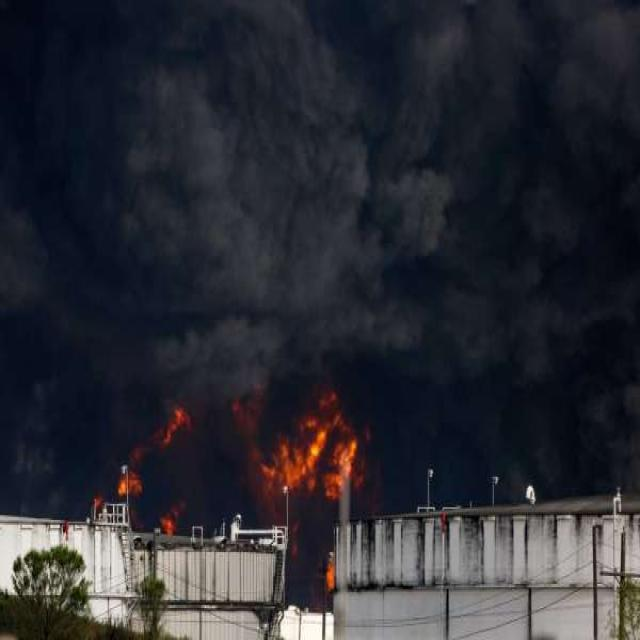Fire: (277, 391, 363, 498), (236, 398, 300, 502), (310, 538, 338, 588), (164, 408, 190, 447), (118, 472, 142, 498), (164, 517, 176, 536)
Smoke: (2, 0, 640, 304), (368, 300, 640, 520), (1, 324, 110, 512), (105, 306, 266, 391), (245, 309, 388, 379)
